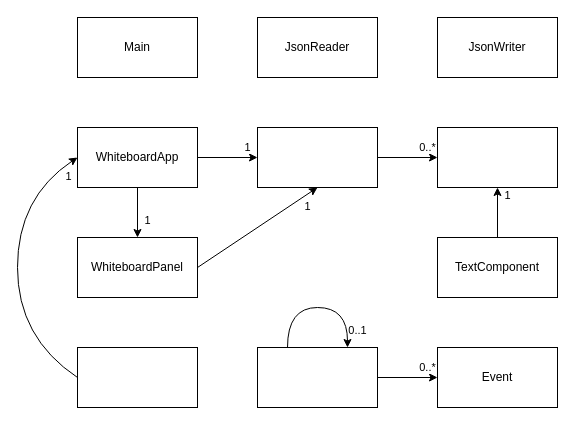
This 575x425 diagram has some shape labels left out. The centre of each missing label's shape, as x and y in pixels:
ButtonActionListener: the point at 137,377
EventLog: the point at 317,377
Text: the point at 497,157
Whiteboard: the point at 317,157
